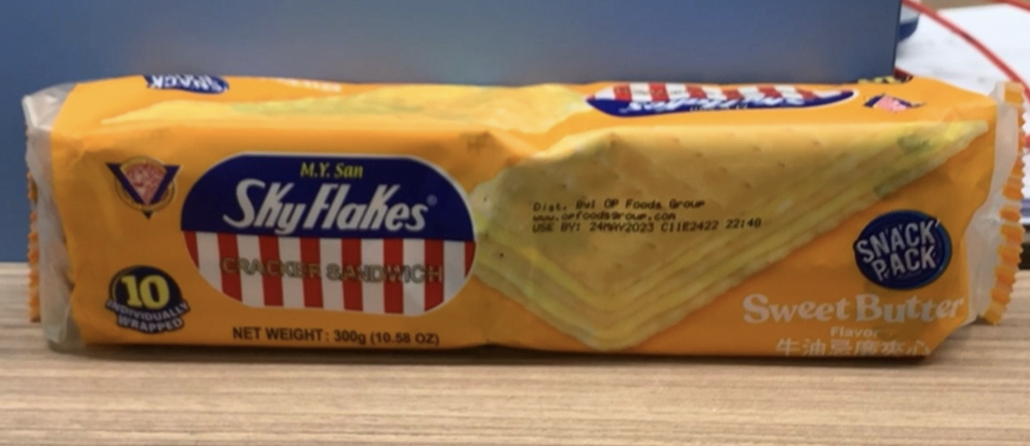crackers_300g-399g: (69, 92, 966, 342)
